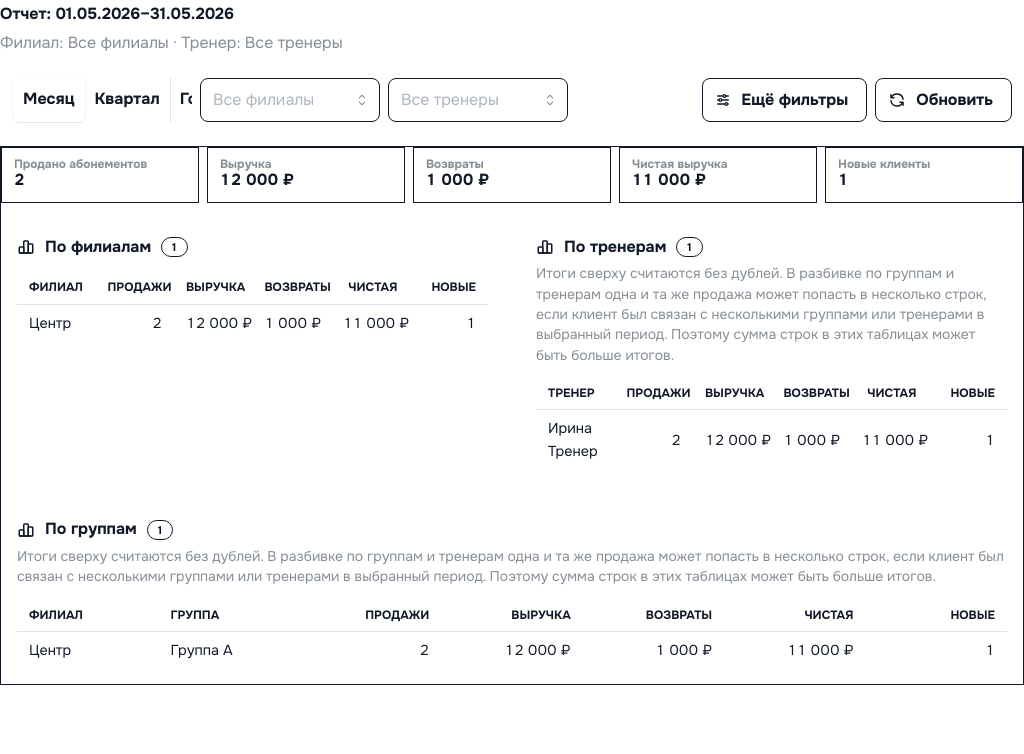
Test case: FinanceReportsScreen › renders same-scope refresh failure as stale with the backend period
Expected: the element with test id "finance-totals" is shown, top-left (1, 147), bottom-right (1023, 203)
Click the button "Обновить": (944, 100) top-left (875, 78), bottom-right (1012, 122)
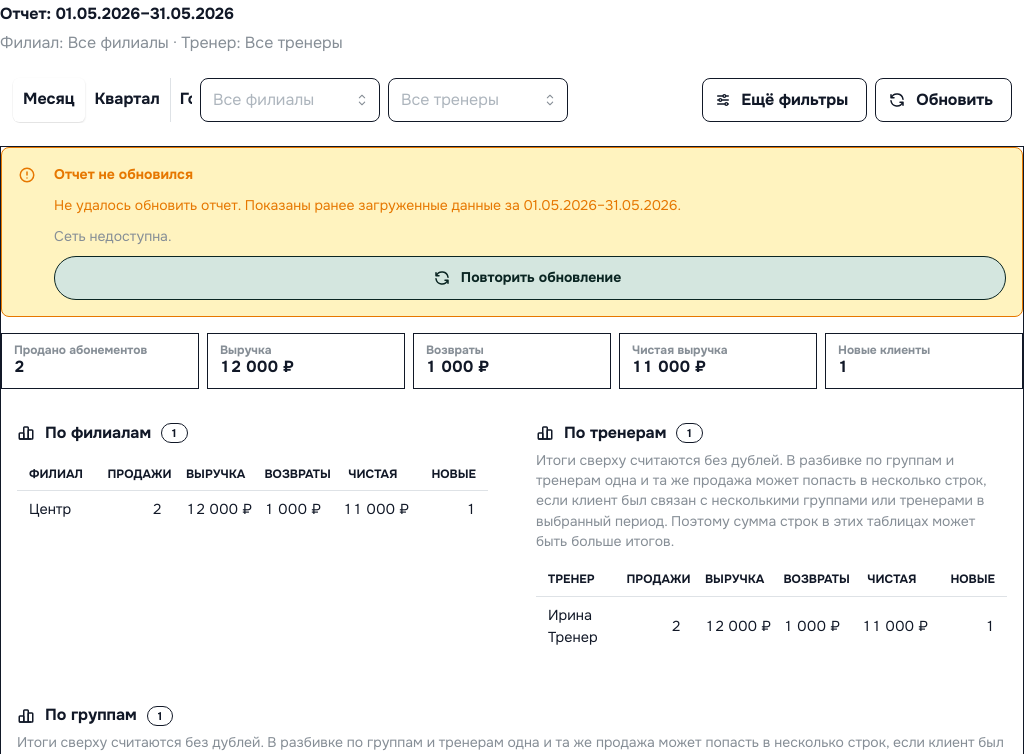
Expected: the text "Отчет не обновился" is shown, top-left (54, 164), bottom-right (193, 185)
Expected: the text "Не удалось обновить отчет. Показаны ранее загруженные данные за 01.05.2026–31.05.2026." is shown, top-left (54, 196), bottom-right (681, 214)
Expected: the text "Сеть недоступна." is shown, top-left (54, 227), bottom-right (172, 245)
